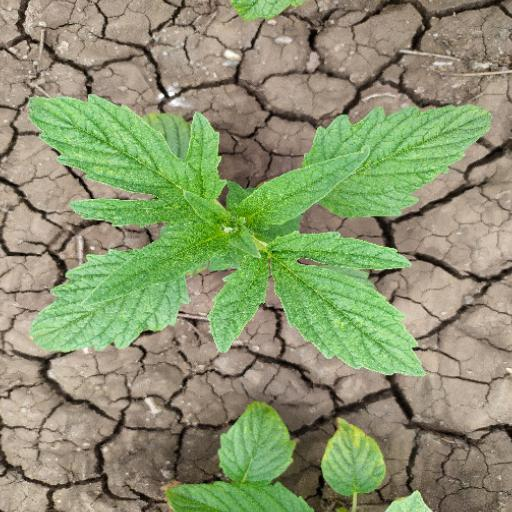crop: (133, 388, 448, 510)
weed: (21, 88, 492, 375)
